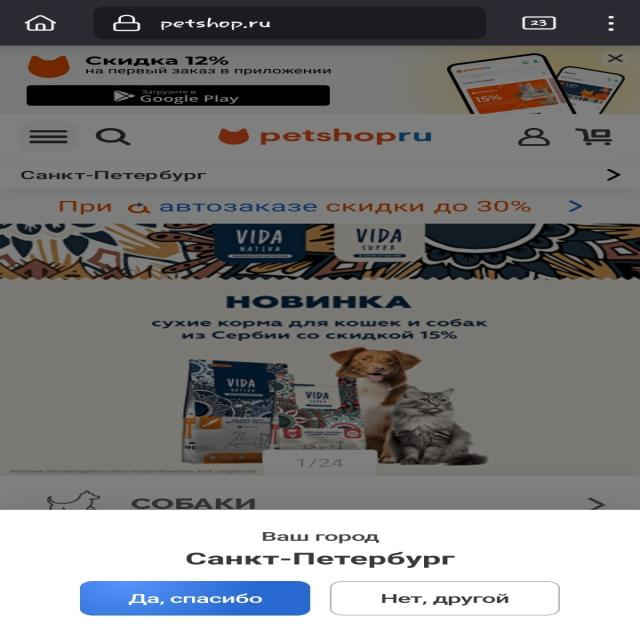button: (82, 581, 311, 617), (329, 582, 562, 615), (30, 85, 331, 106), (604, 52, 626, 64)
site: (0, 510, 640, 640), (0, 46, 640, 112)
